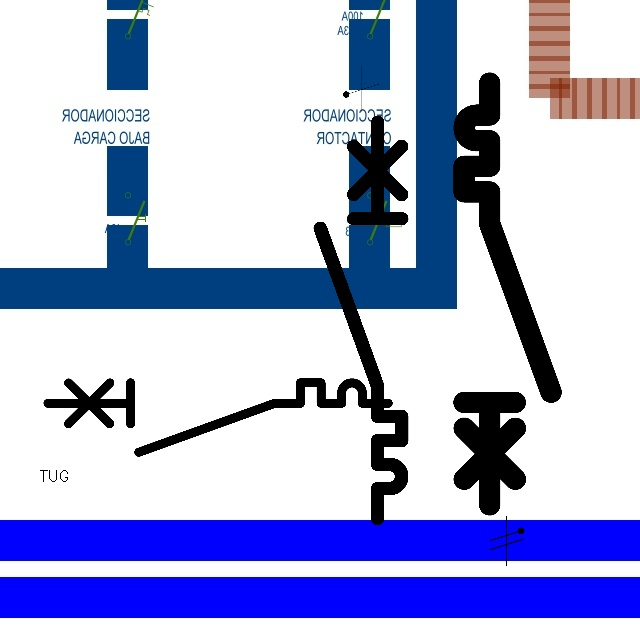interruptor_termomagnetico: (453, 72, 561, 516), (310, 112, 412, 529), (39, 374, 397, 461)
